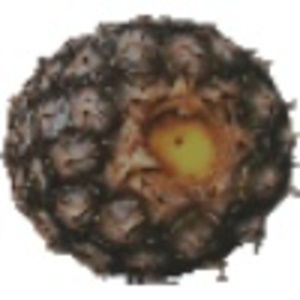abacaxi: (3, 7, 294, 280)
